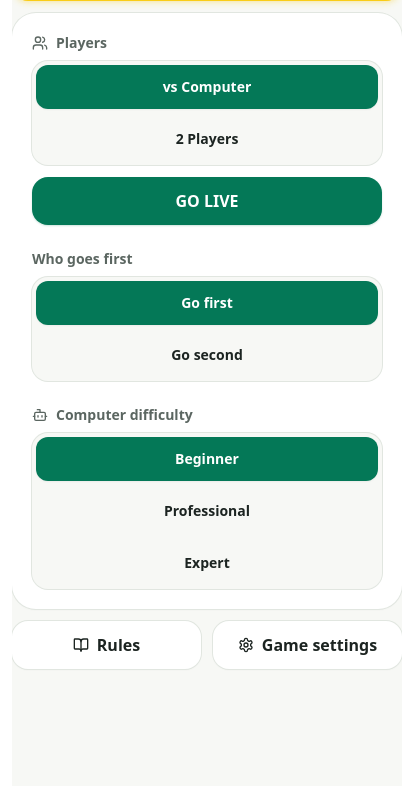
Scenario: per-game settings › opens from pre-game setup and displays shrinkable sections at a 430px viewport
Click the link "Game settings".
click(308, 645)  # box [213,621,401,669]
(page scrolled)
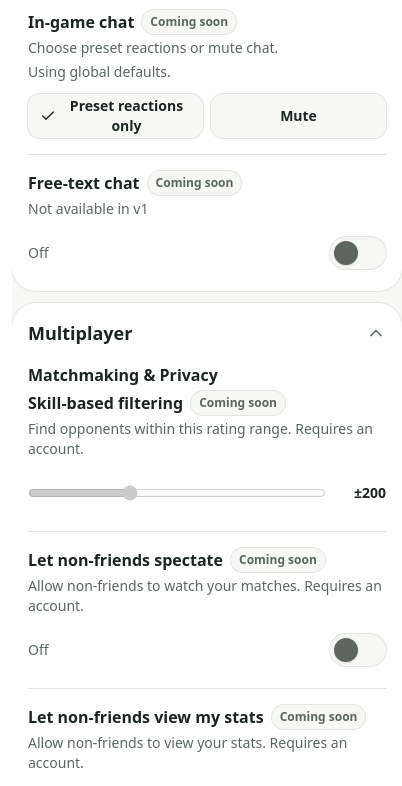
Expected: the element named "In-game chat" is shown, [28,94,386,138]
Expected: the text "Not available in v1" is shown, [28,199,148,218]
Expected: the slider named "Skill-based filtering" is disabled, [28,471,326,515]
